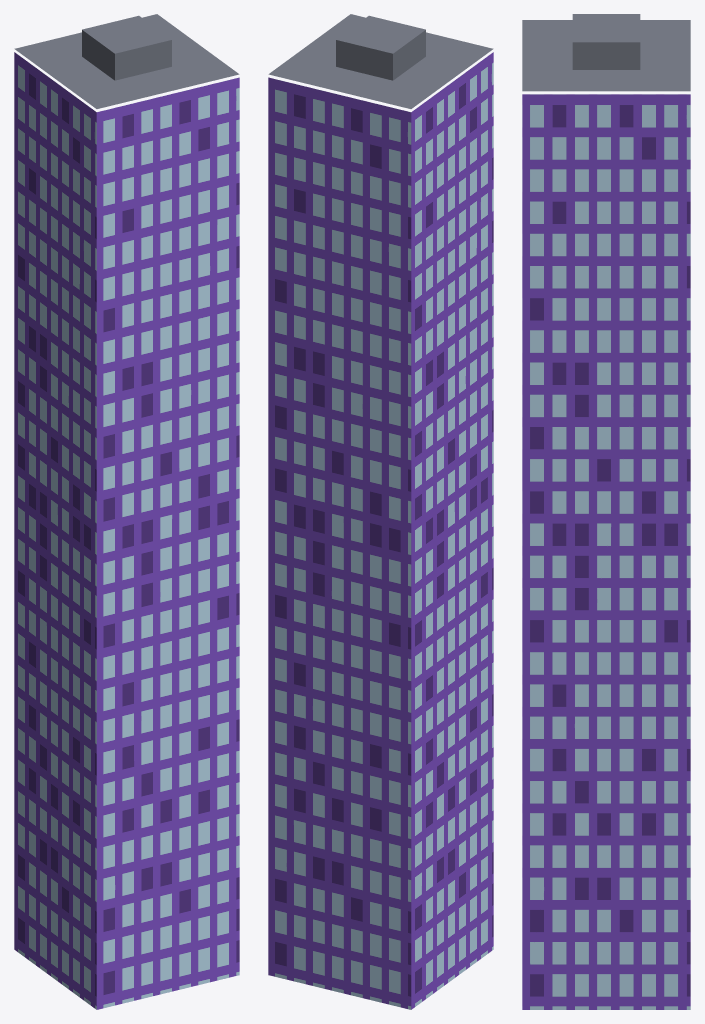
File: skyscraper_purple.glb
3 views of the same model, side by side, from view 1: azimuth 30°, elevation 25°; view 2: azimuth 150°, elevation 25°; view 3: azimuth 270°, elevation 25° (orthographic). The views are drawn at different scales.
Parts seen in each view (by area): view 1: skyscraper_purple; view 2: skyscraper_purple; view 3: skyscraper_purple.
Boxes of the visible parts, left/top/right/bottom form: skyscraper_purple: left=14, top=14, right=239, bottom=1009; skyscraper_purple: left=268, top=14, right=493, bottom=1009; skyscraper_purple: left=522, top=14, right=690, bottom=1009.
Size of the model in its own units: 5 by 31 by 5.
Materials: 2 (1 with a texture image).
